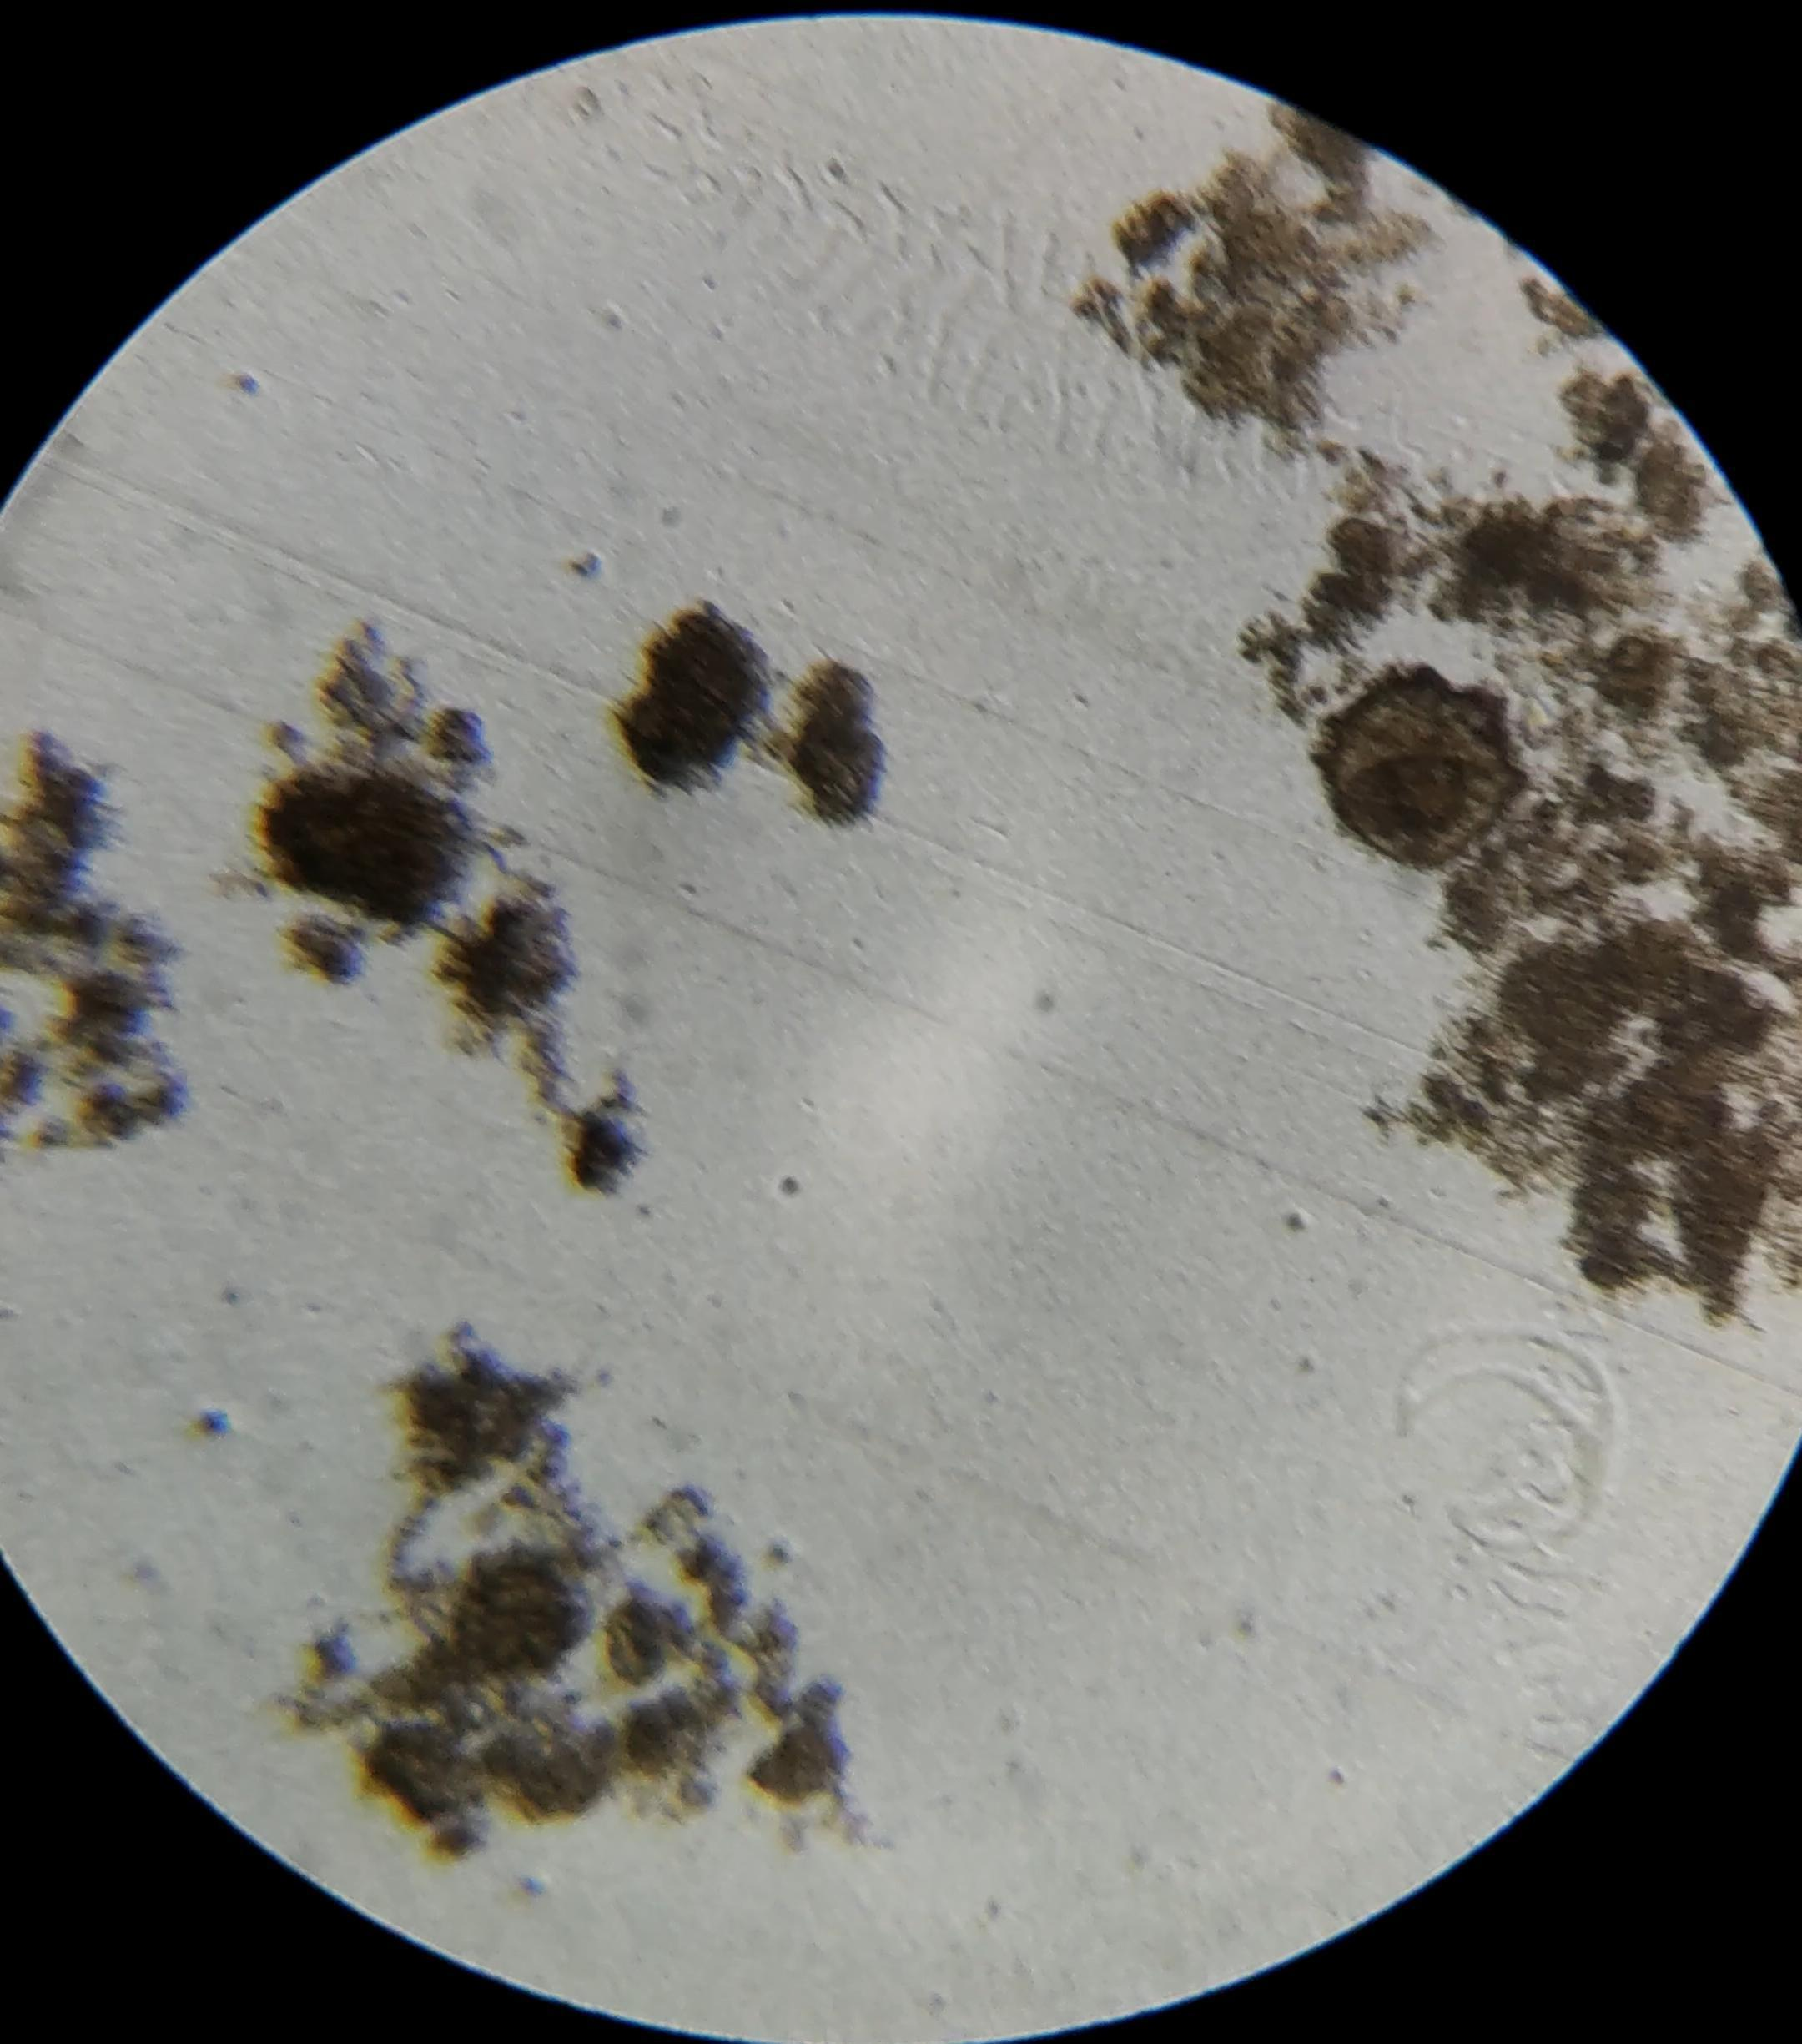Arcella: (1332, 682, 1503, 861)
